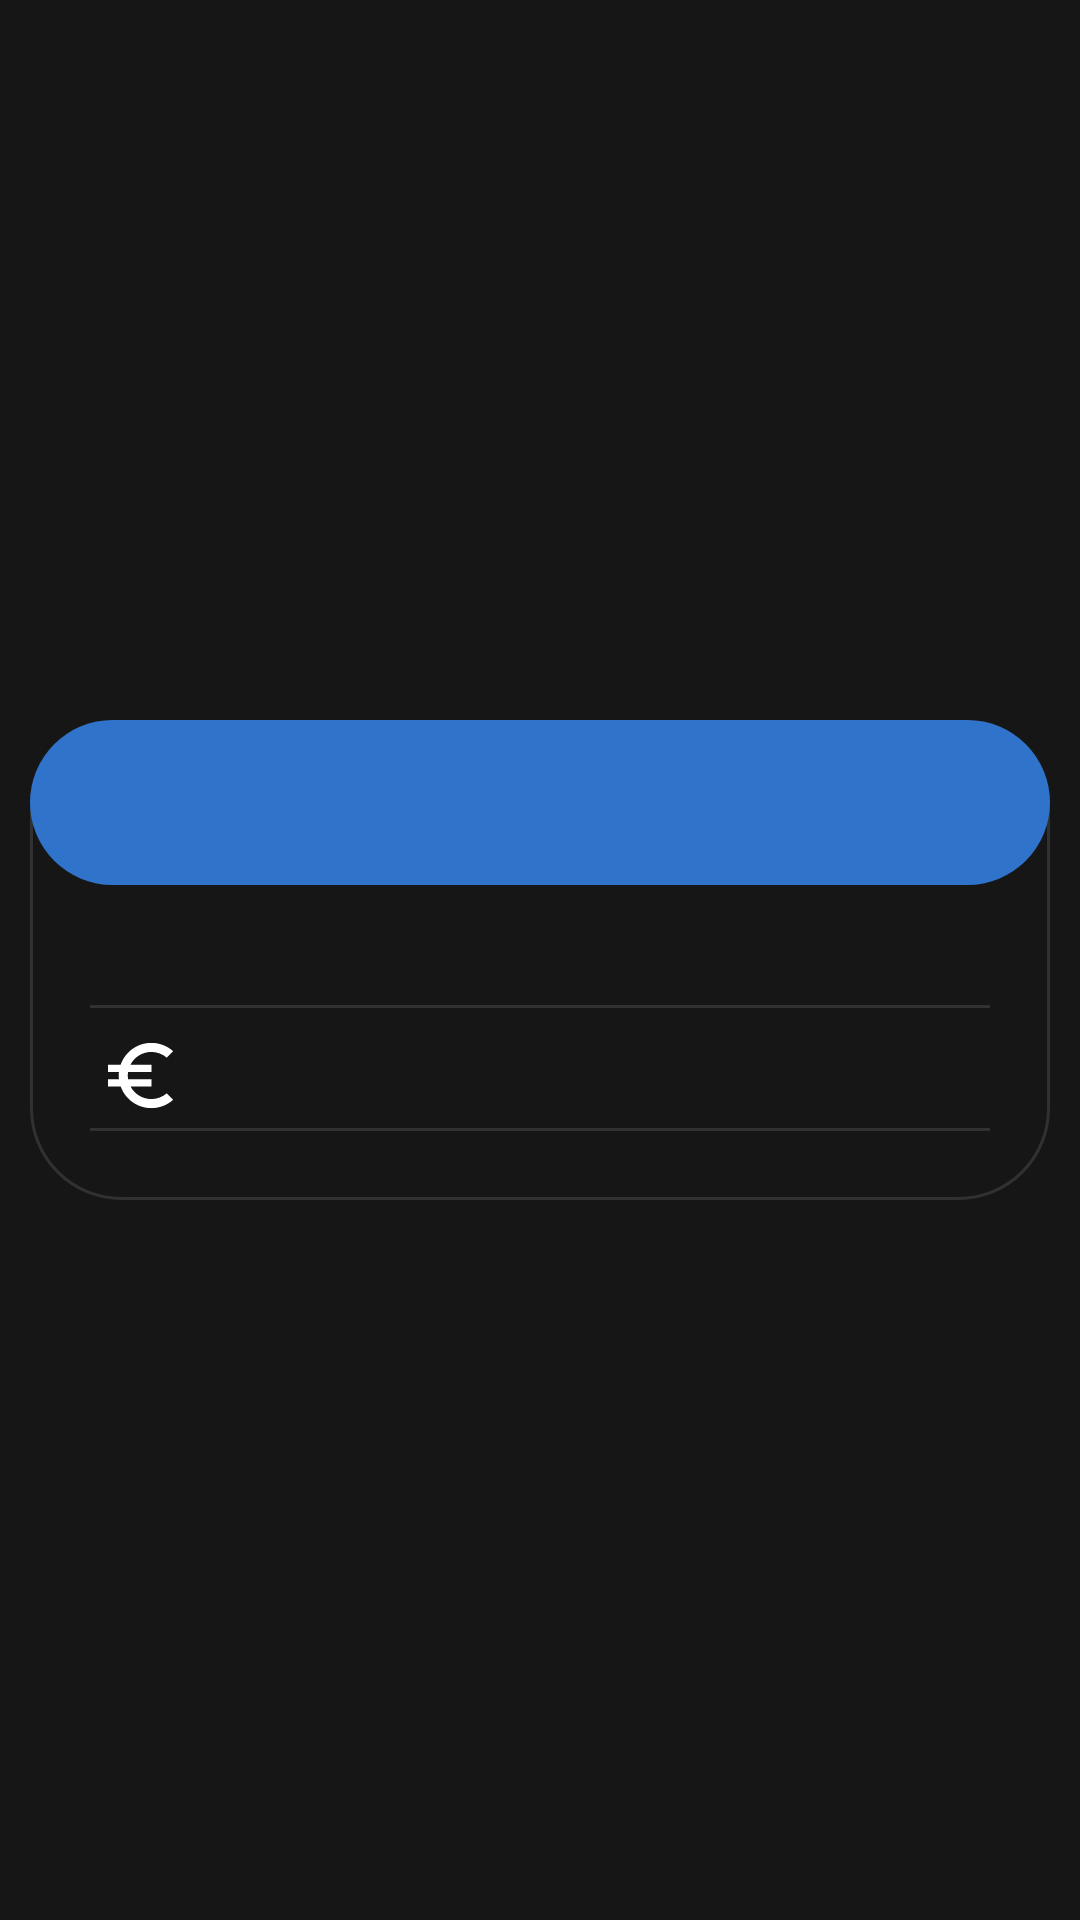

Icons on this 1080*1920 Android screen, each with the point to tap as [x,y]:
euro symbol: [140,1075]
